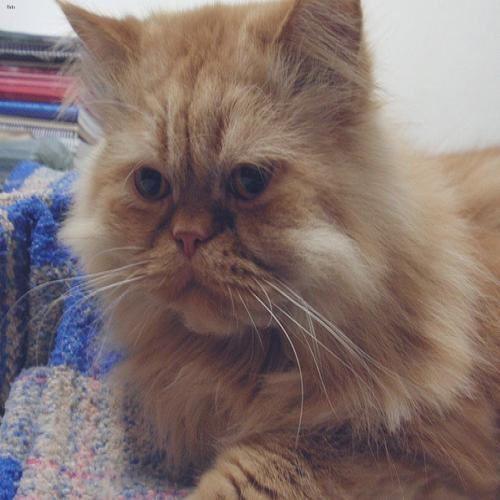persian: (41, 1, 384, 380)
